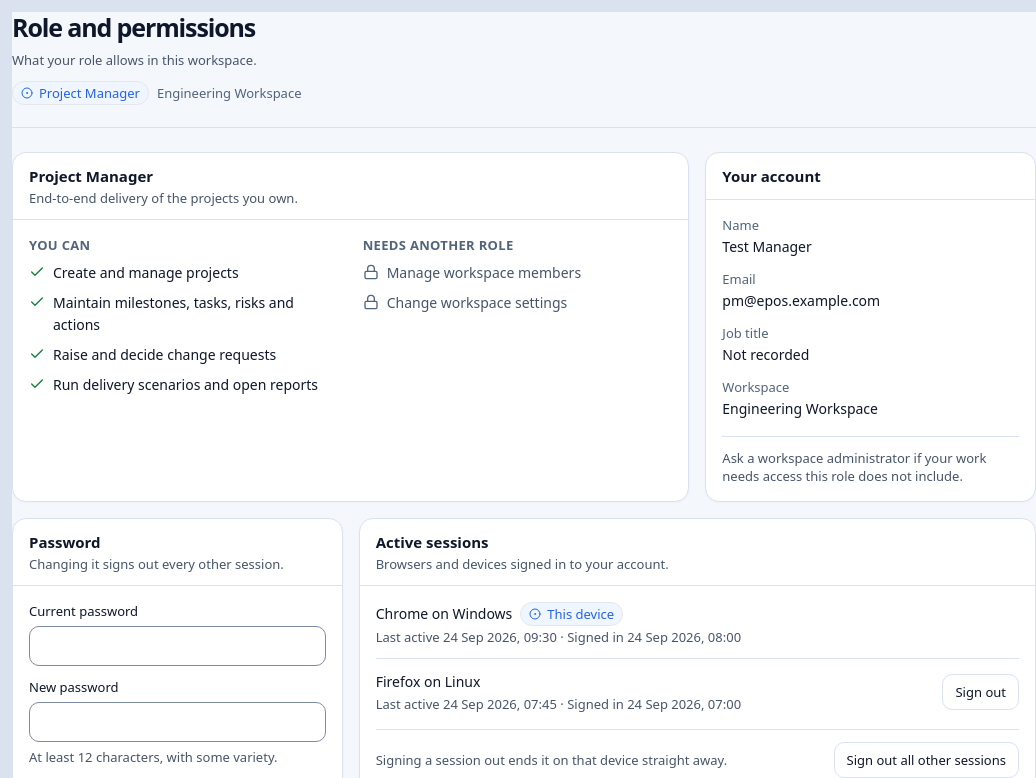
Scenario: Active sessions › lists the account's sessions and signs out another device
Expected: the text "Firefox on Linux" is shown, [376, 671, 480, 693]
Expected: the text "Chrome on Windows" is shown, [376, 603, 512, 625]
Click the button named "Sign out Firefox on Linux".
click(981, 692)  # box [942, 674, 1019, 710]
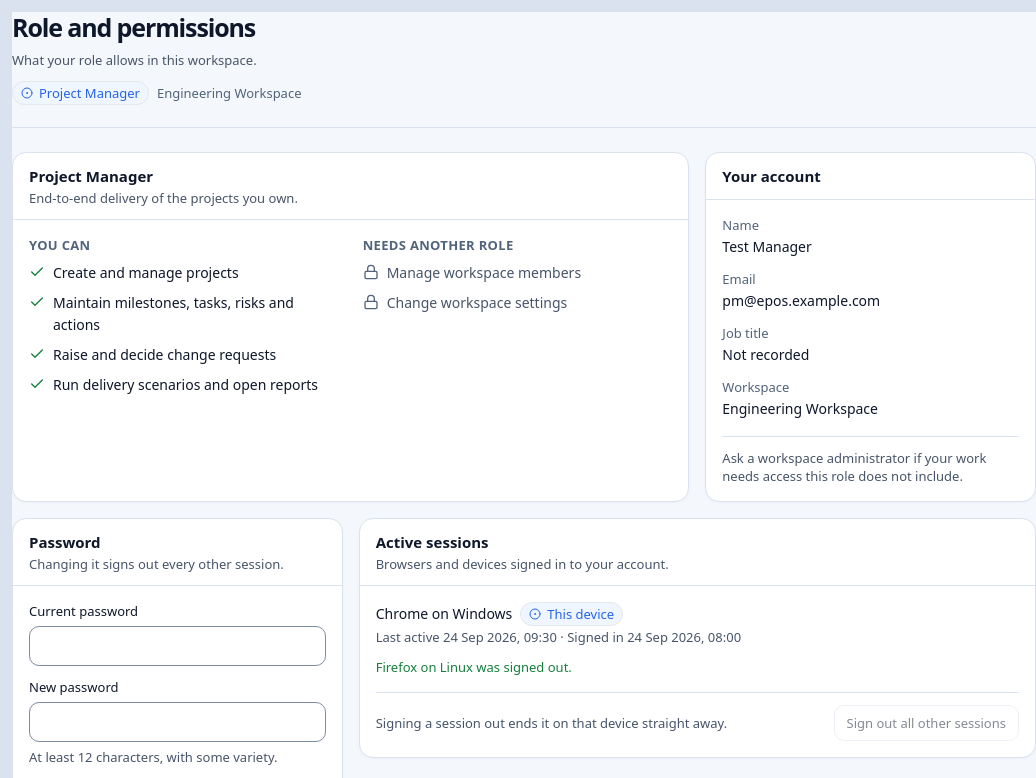
Expected: the message reads "Firefox on Linux was signed out.", [376, 658, 572, 676]
Expected: the button named "Sign out all other sessions" is disabled, [834, 705, 1019, 741]
